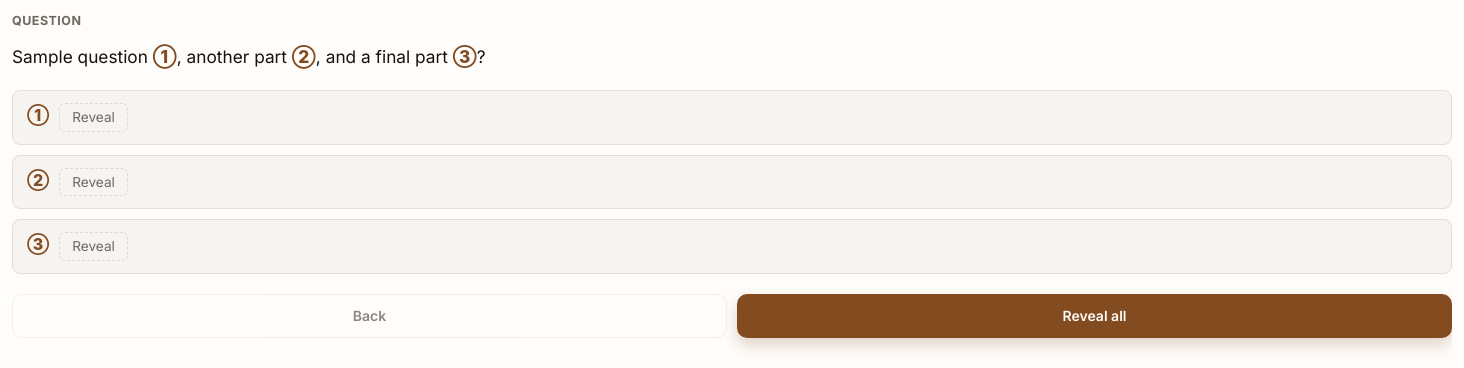
Test: QuestionTrainer › reveal all shows every answer
The width and height of the screenshot is (1464, 368).
Click the button "Reveal all". click: (1094, 316)
box: [737, 294, 1452, 338]
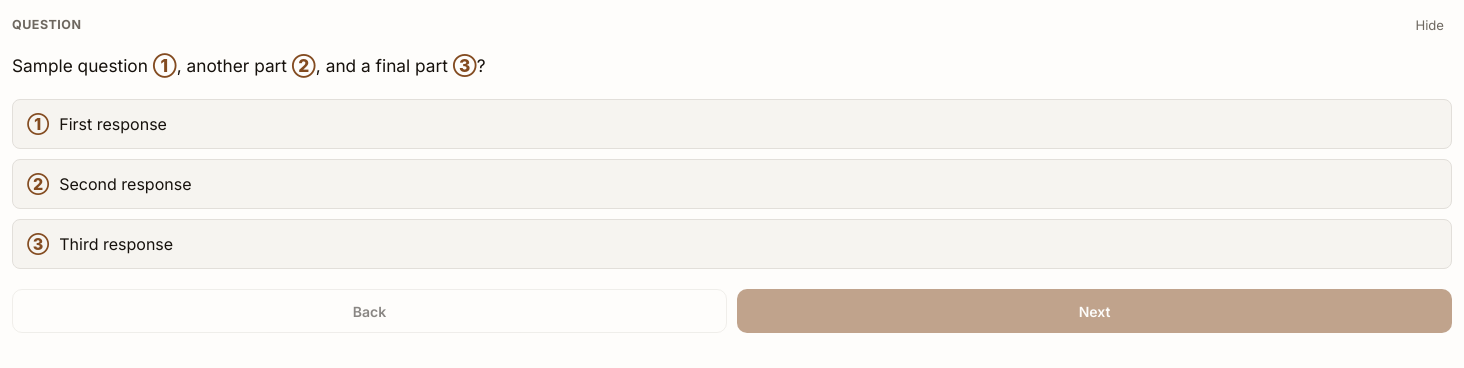
Check: the number of elements with test id "answer-text" is 3, box [59, 112, 167, 136]; [59, 172, 191, 196]; [59, 232, 173, 256]
